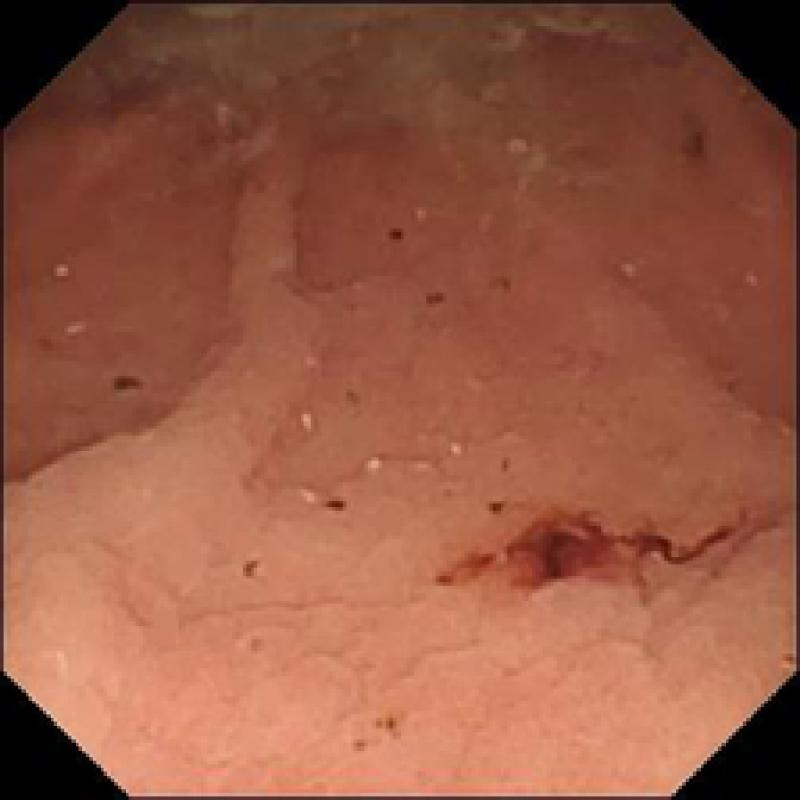bleeding: (436, 504, 754, 596)
